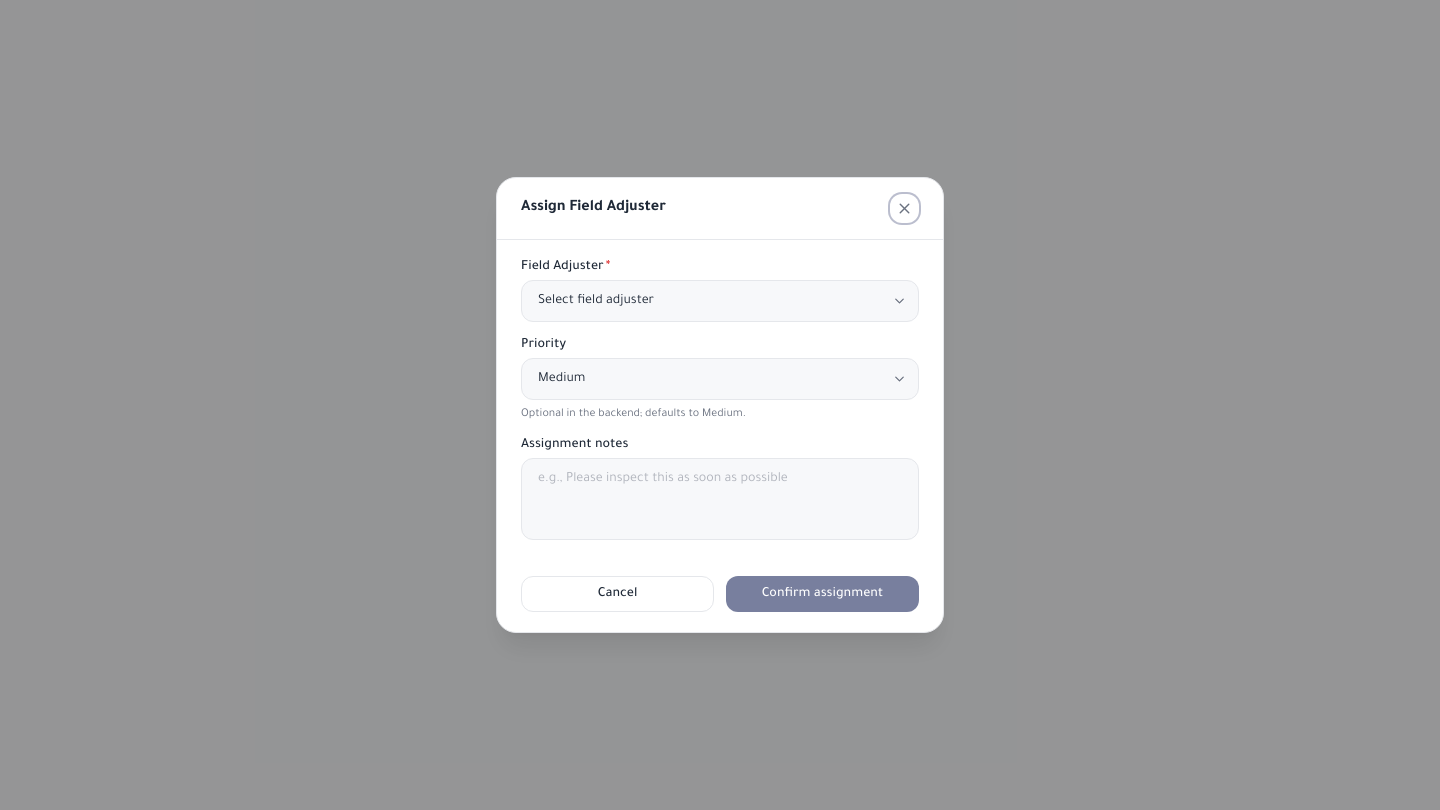
Test: AssignClaimModal capacity override › does not assign when the override is declined and shows the availability error
Select "Aya (FA-001) — Available · 0/3" in the 1st dropdown showing "Select field adjuster": (720, 301) [521, 280, 919, 322]
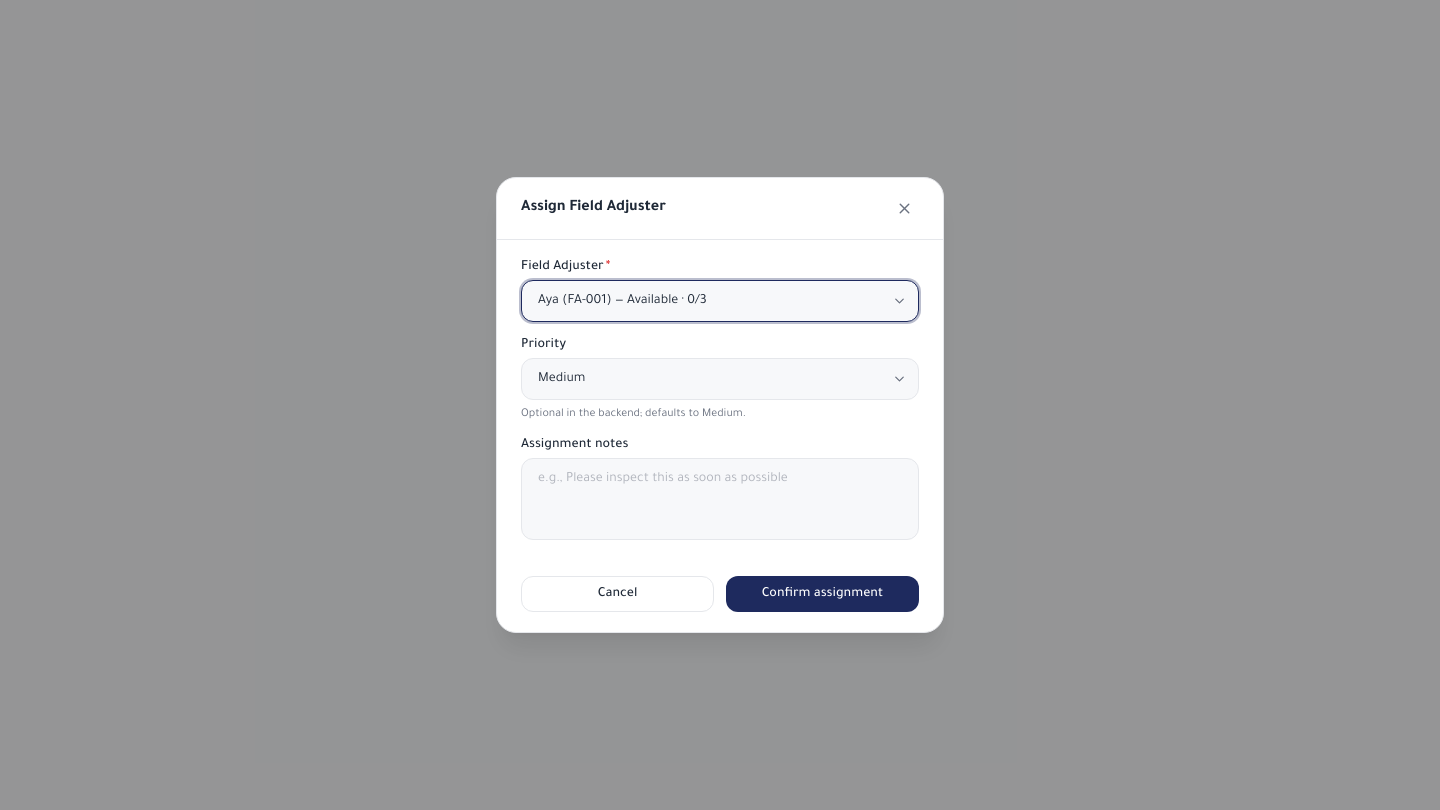
Click the button "Confirm assignment": (822, 594) [726, 576, 919, 612]
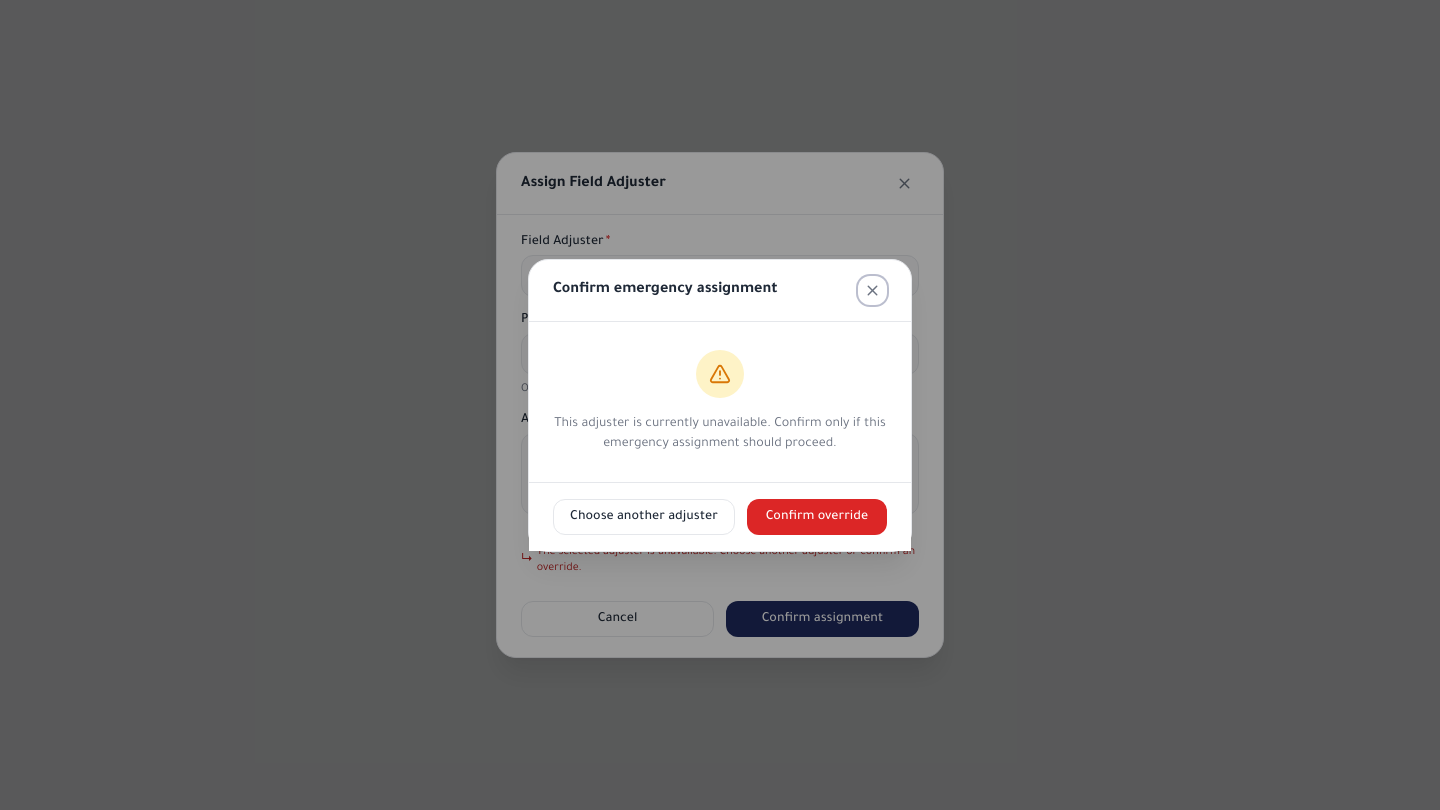
Now the heading "Confirm emergency assignment" is shown, box [553, 278, 778, 302]
Click the button "Choose another adjuster": (644, 516) [553, 498, 735, 534]
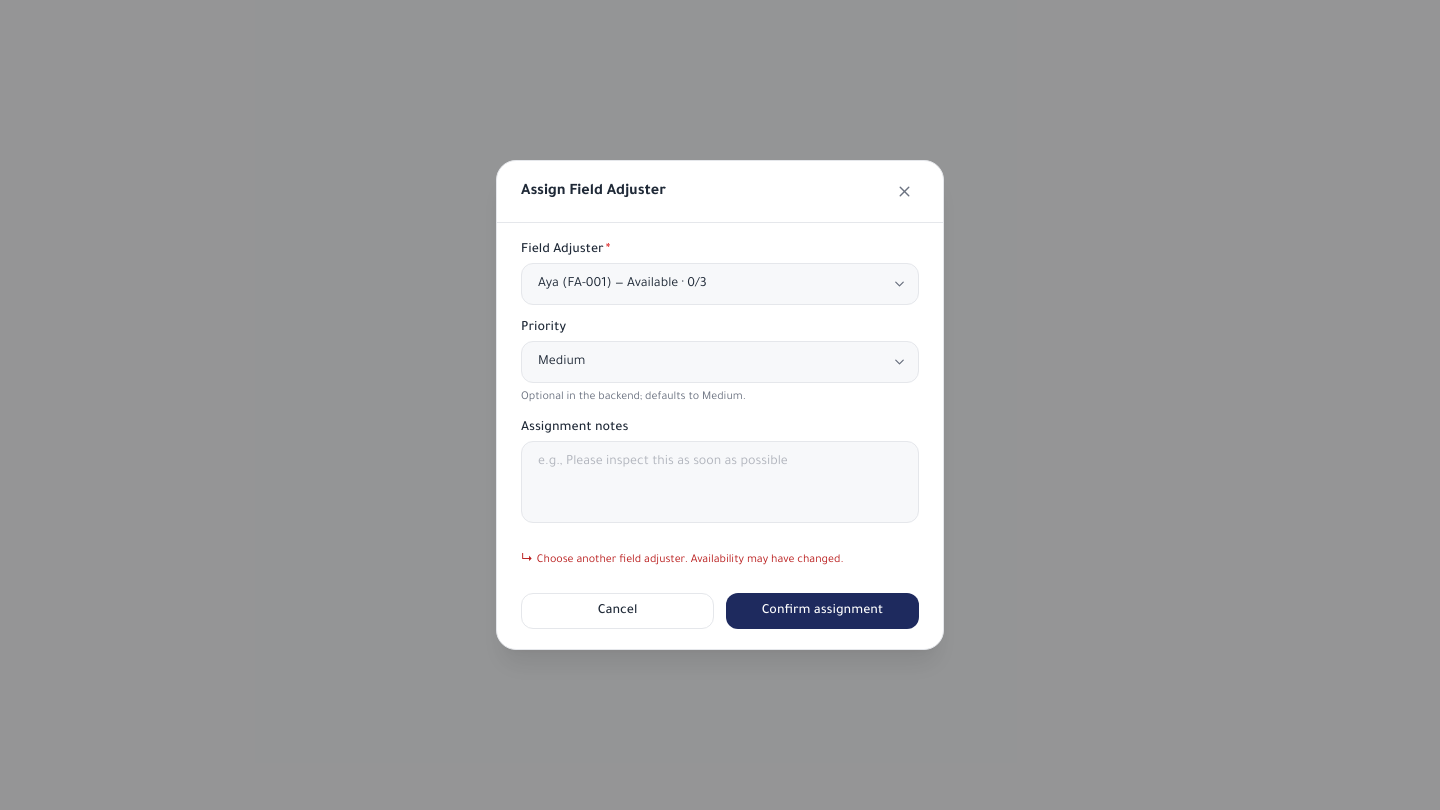
Now the text "↳ Choose another field adjuster. Availability may have changed." is shown, box [521, 554, 844, 566]
